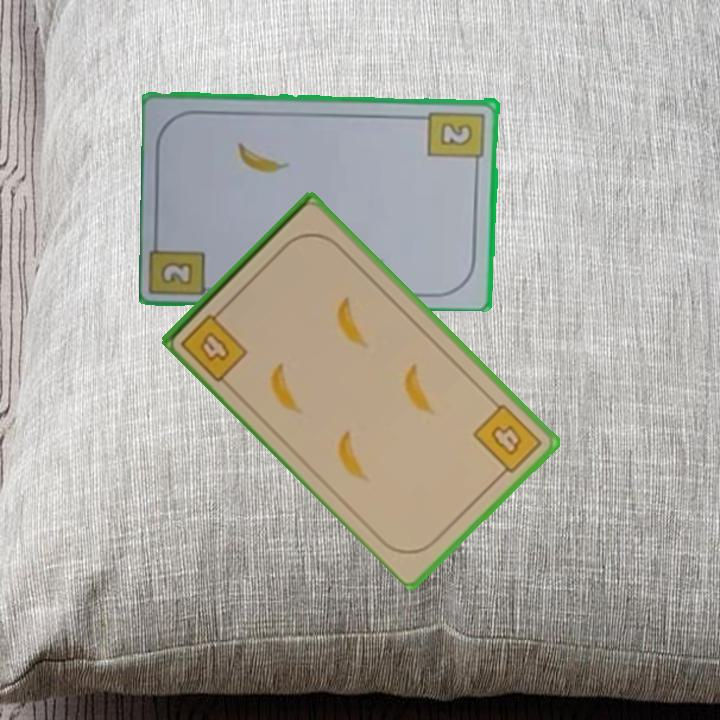2b: (426, 107, 488, 170), (157, 258, 196, 288)
4b: (469, 400, 545, 481), (177, 302, 251, 385)
